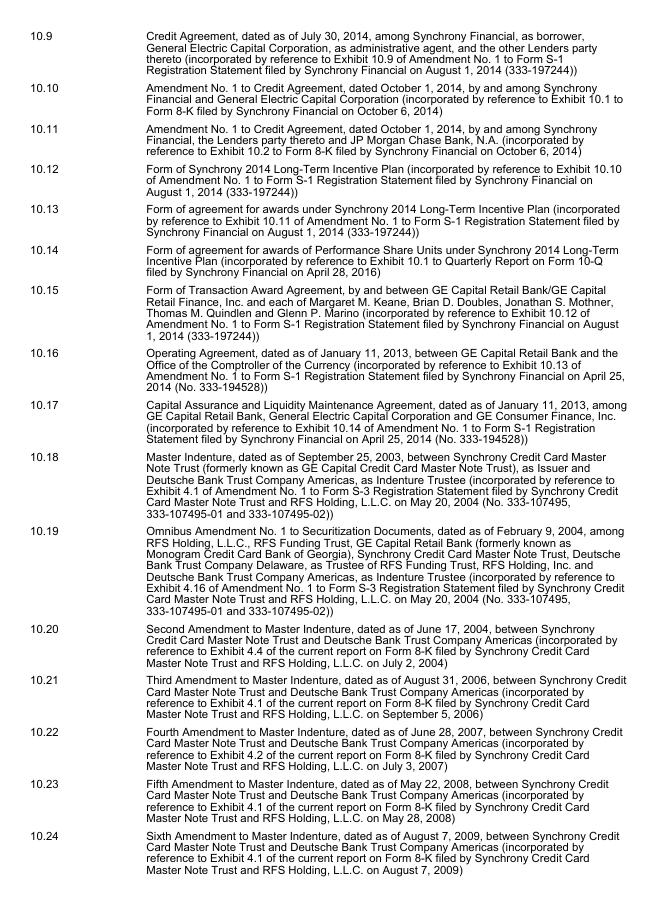table: (29, 29, 625, 875)
table column: (101, 29, 625, 875), (29, 29, 101, 875)
table row: (29, 521, 625, 618), (29, 447, 625, 521), (29, 280, 625, 343), (29, 343, 625, 395), (29, 395, 625, 447), (29, 618, 625, 670), (29, 670, 625, 722), (29, 722, 625, 774), (29, 774, 625, 825), (29, 825, 625, 875), (29, 29, 625, 78), (29, 118, 625, 159), (29, 239, 625, 280), (29, 78, 625, 118), (29, 159, 625, 199), (29, 199, 625, 239)
